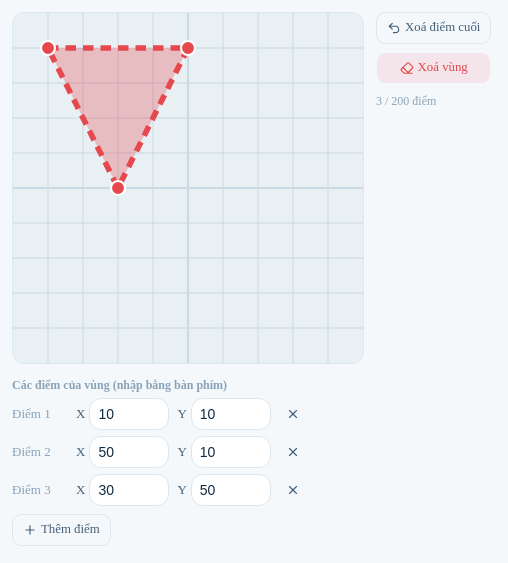
Test case: drawing the danger zone › Xoá điểm cuối removes the last vertex; Xoá vùng removes all
Click the button "Xoá điểm cuối".
click(434, 28)  # box left=376, top=12, right=491, bottom=44
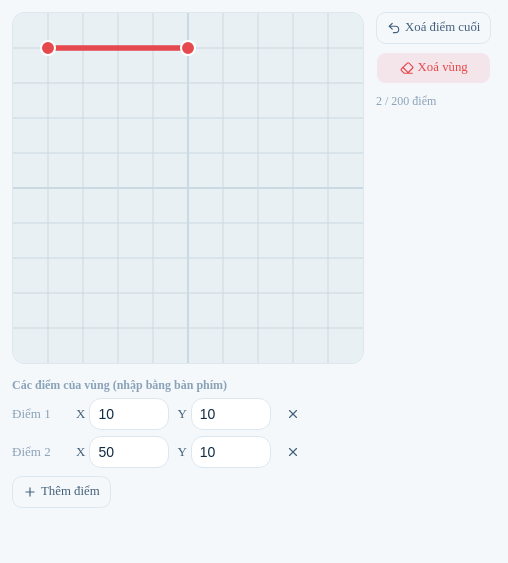
Click the button "Xoá vùng".
click(434, 68)  # box left=376, top=52, right=491, bottom=84
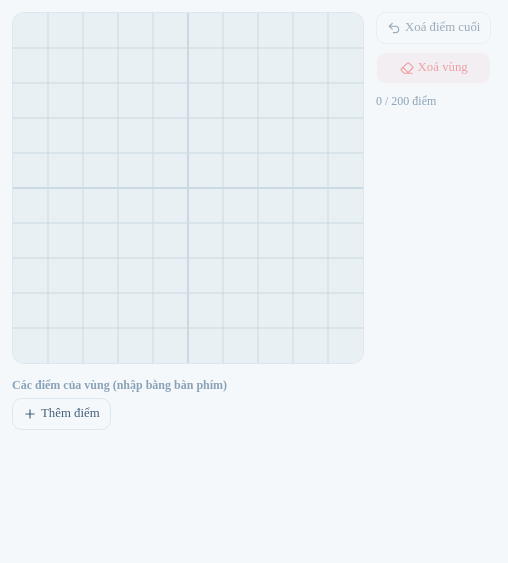
Check: the button "Xoá vùng" is disabled, box left=376, top=52, right=491, bottom=84
Check: the button "Xoá điểm cuối" is disabled, box left=376, top=12, right=491, bottom=44
